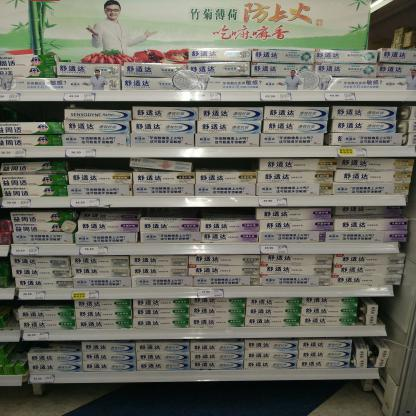Void: (147, 209, 252, 219), (4, 104, 60, 119), (196, 160, 256, 170), (22, 342, 81, 352), (70, 160, 127, 170), (23, 301, 68, 308), (4, 301, 14, 329), (380, 298, 388, 322)
